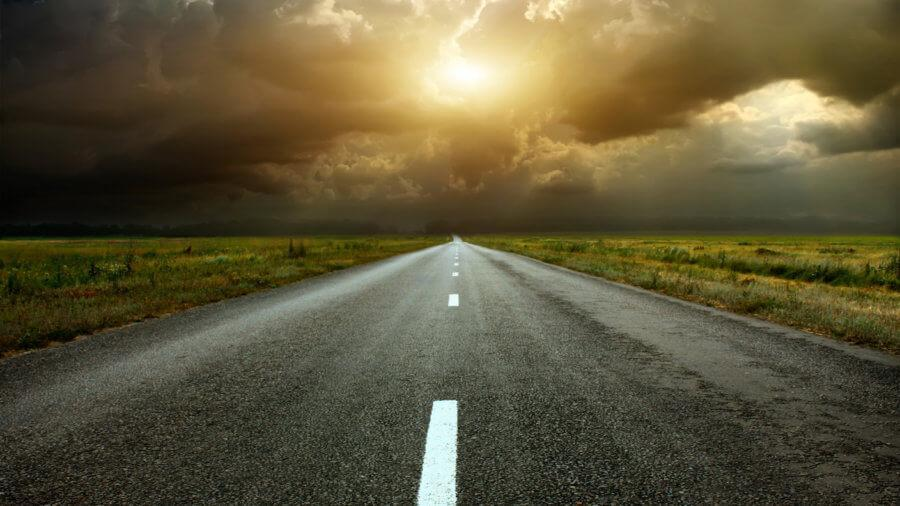light: (363, 22, 566, 139)
